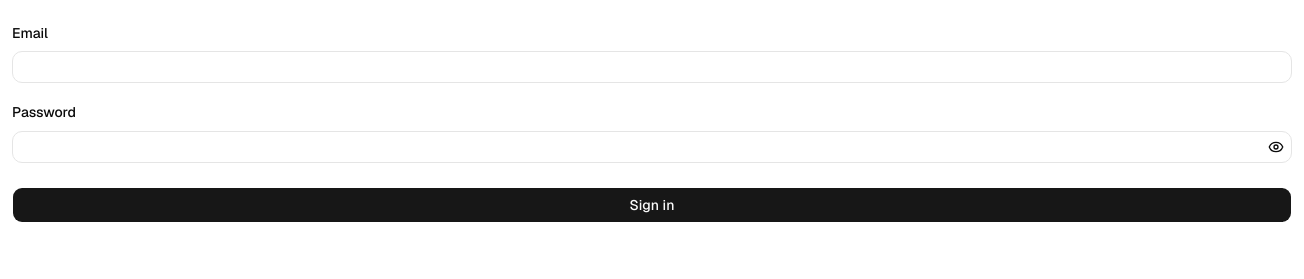
Test: SigninForm › does not navigate when /me cannot confirm the session
This screenshot has width=1304, height=279.
Type "Mostafa@Example.com" into the field labelled "Email" at coordinates (652, 67), box [12, 51, 1292, 83]
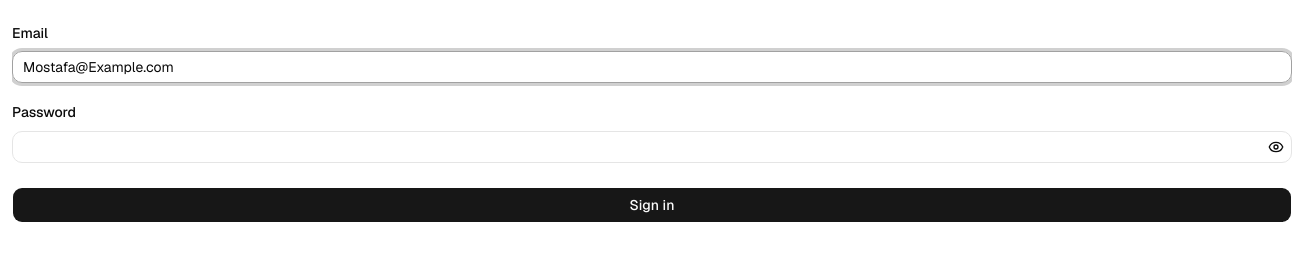
Type " secret " into the password field labelled "Password" at coordinates (652, 146), box [12, 130, 1292, 162]
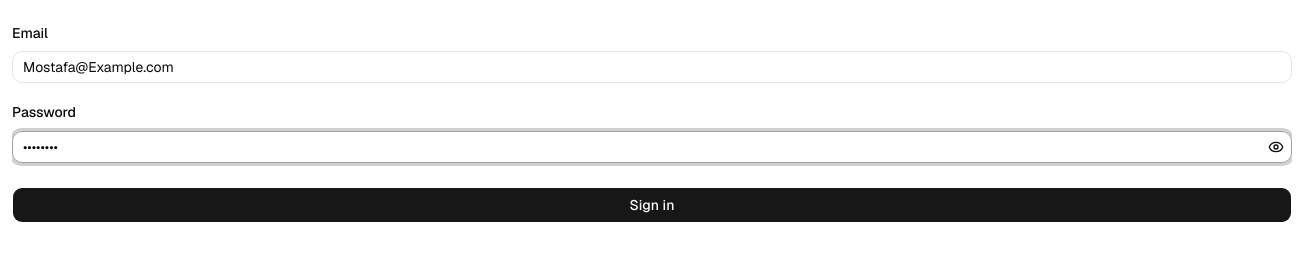
Click the button "Sign in" at coordinates (652, 204), box [12, 186, 1292, 222]
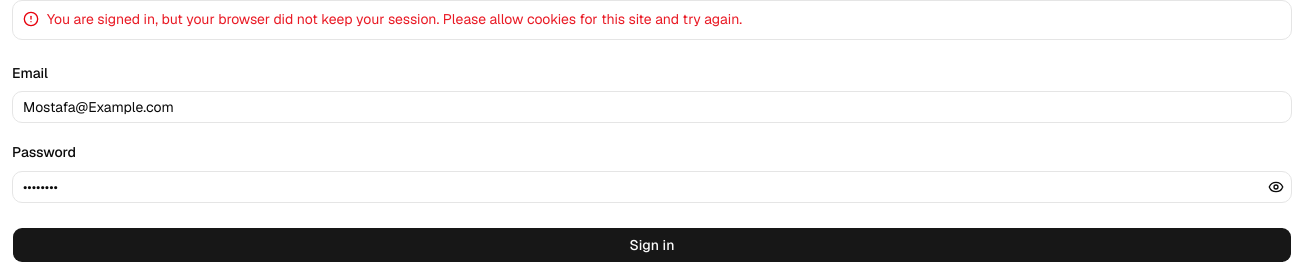
Now the text "browser did not keep your session" is shown, box [47, 10, 742, 28]
